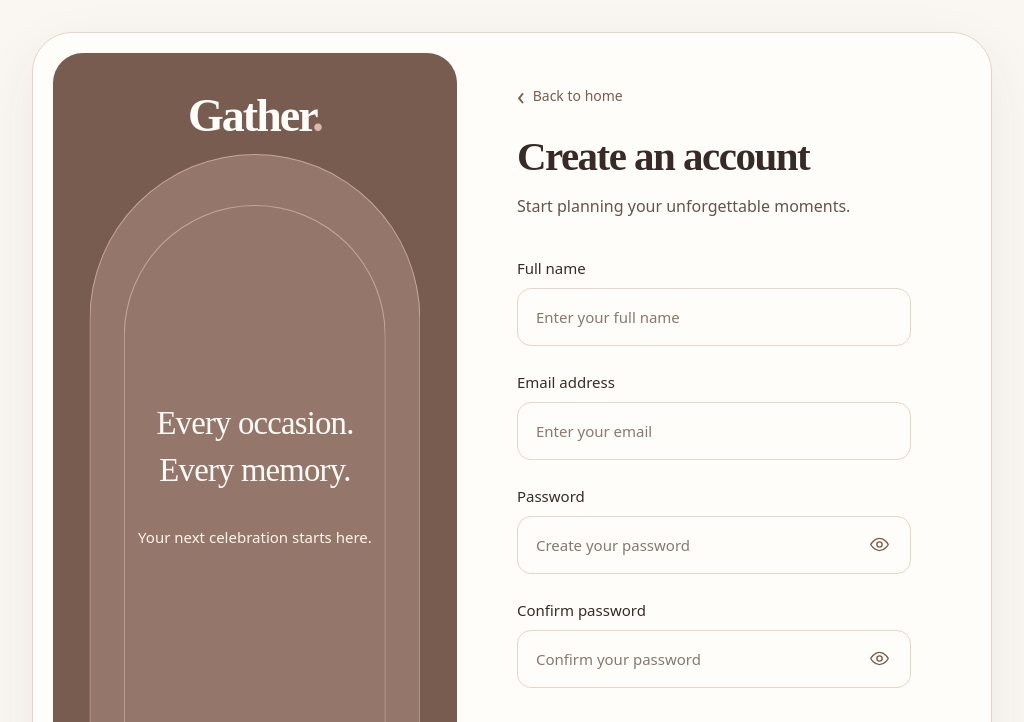
it: Registration form › accepts valid input and displays the unavailable message
The width and height of the screenshot is (1024, 722).
Step 1. Type "Test User" into the field labelled "Full name" → {"x": 714, "y": 317}, box x1=517 y1=288 x2=911 y2=346
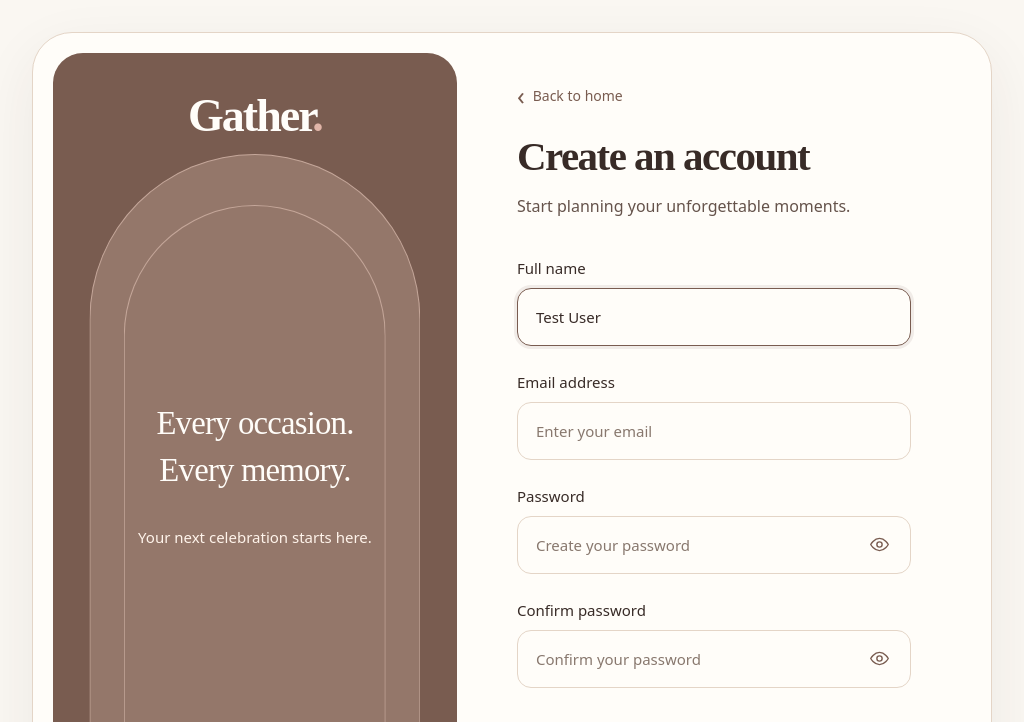
Step 2. Type "test@example.com" into the field labelled "Email address" → {"x": 714, "y": 431}, box x1=517 y1=402 x2=911 y2=460
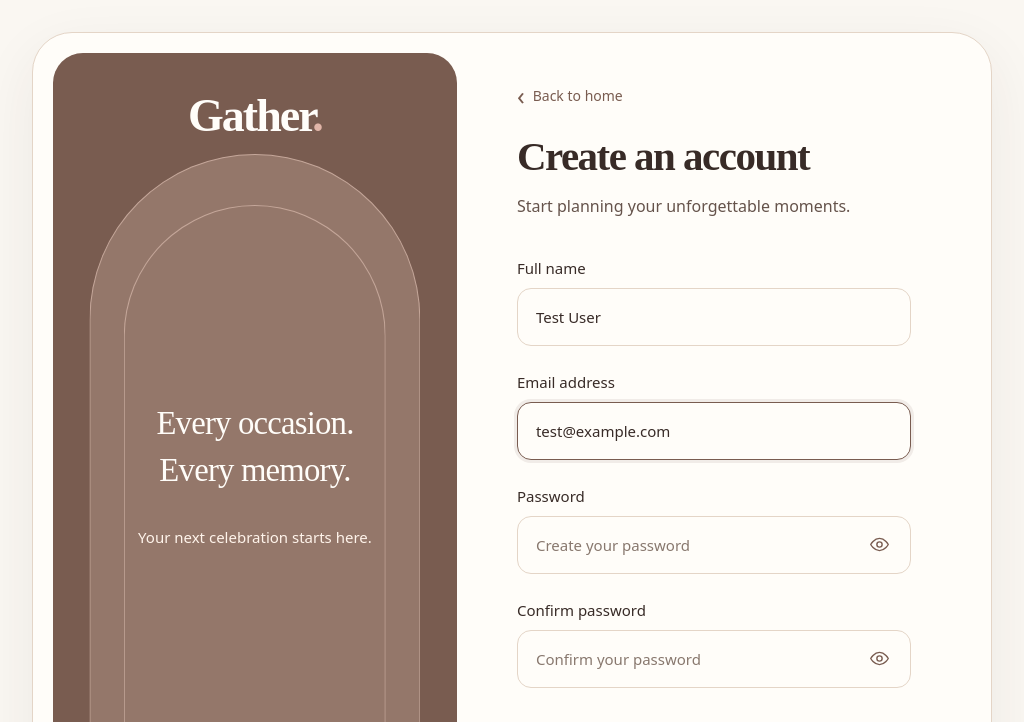
Step 3. Type "Test1234" into the password field labelled "Password" → {"x": 714, "y": 545}, box x1=517 y1=516 x2=911 y2=574
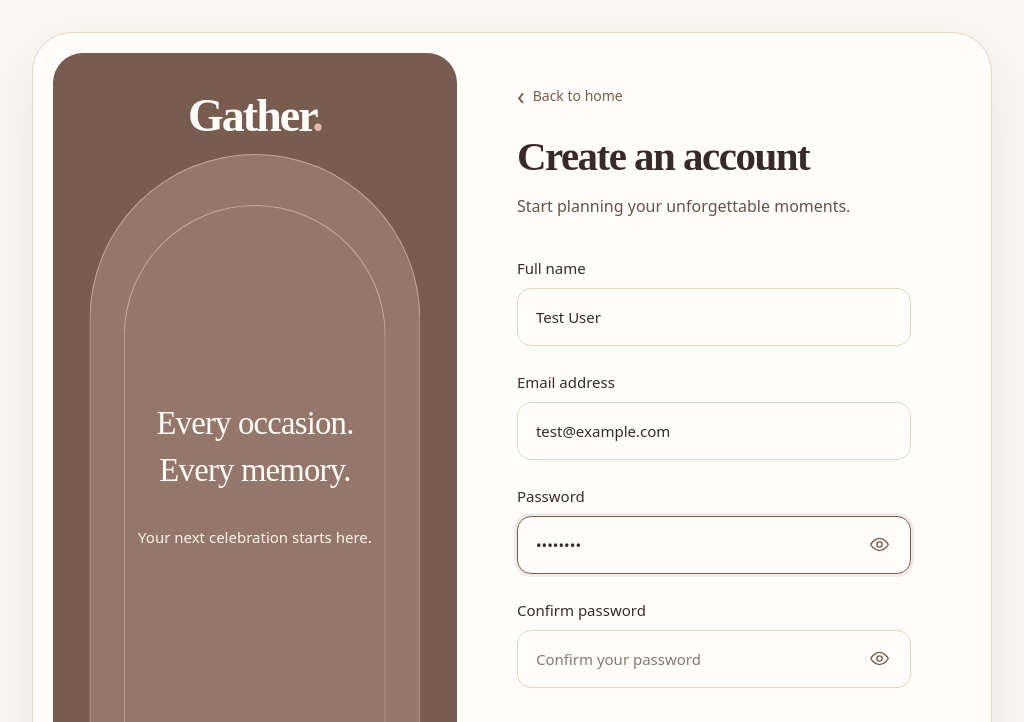
Step 4. Type "Test1234" into the password field labelled "Confirm password" → {"x": 714, "y": 659}, box x1=517 y1=630 x2=911 y2=688
(page scrolled)
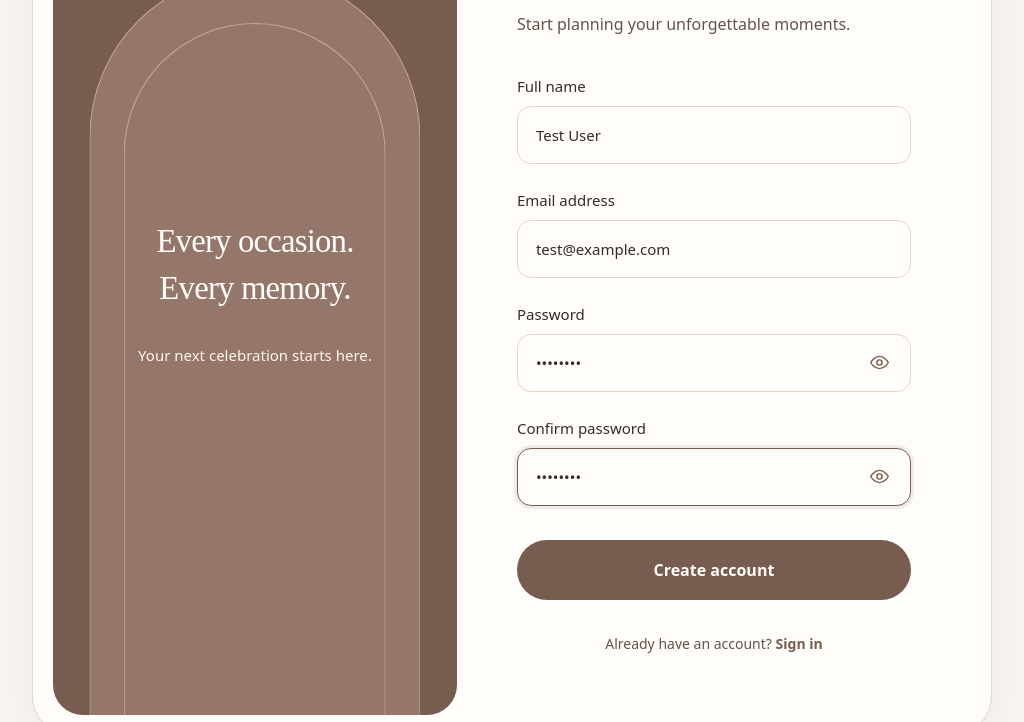
Step 5. Click the button "Create account" → {"x": 714, "y": 570}, box x1=517 y1=540 x2=911 y2=600
(page scrolled)
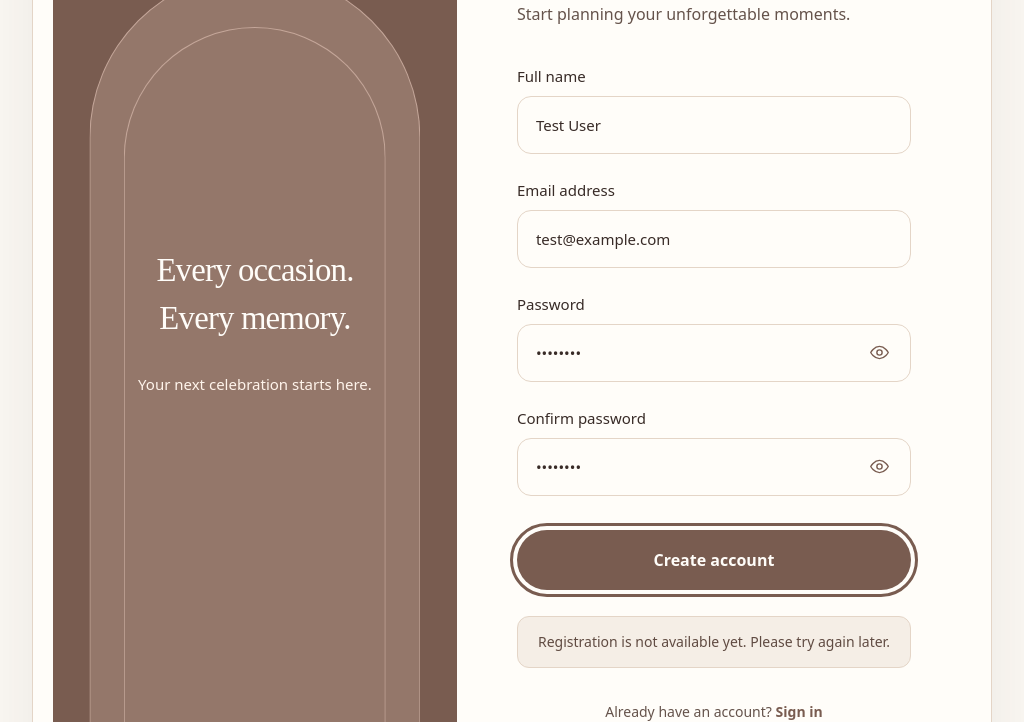
Now the text "Registration is not available yet. Please try again later." is shown, box x1=517 y1=616 x2=911 y2=668
